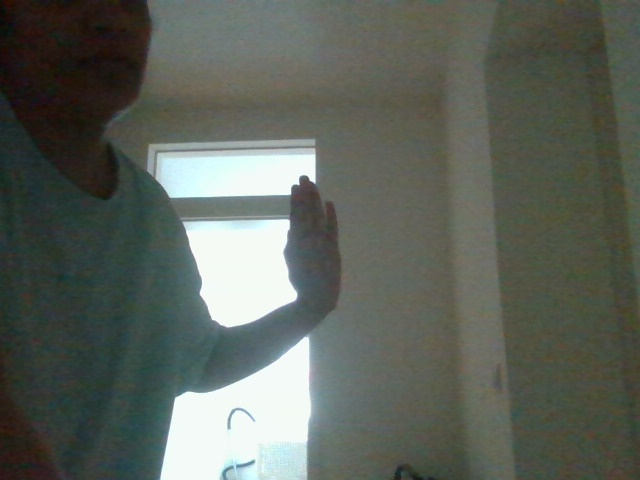open_hand: (266, 169, 352, 309)
